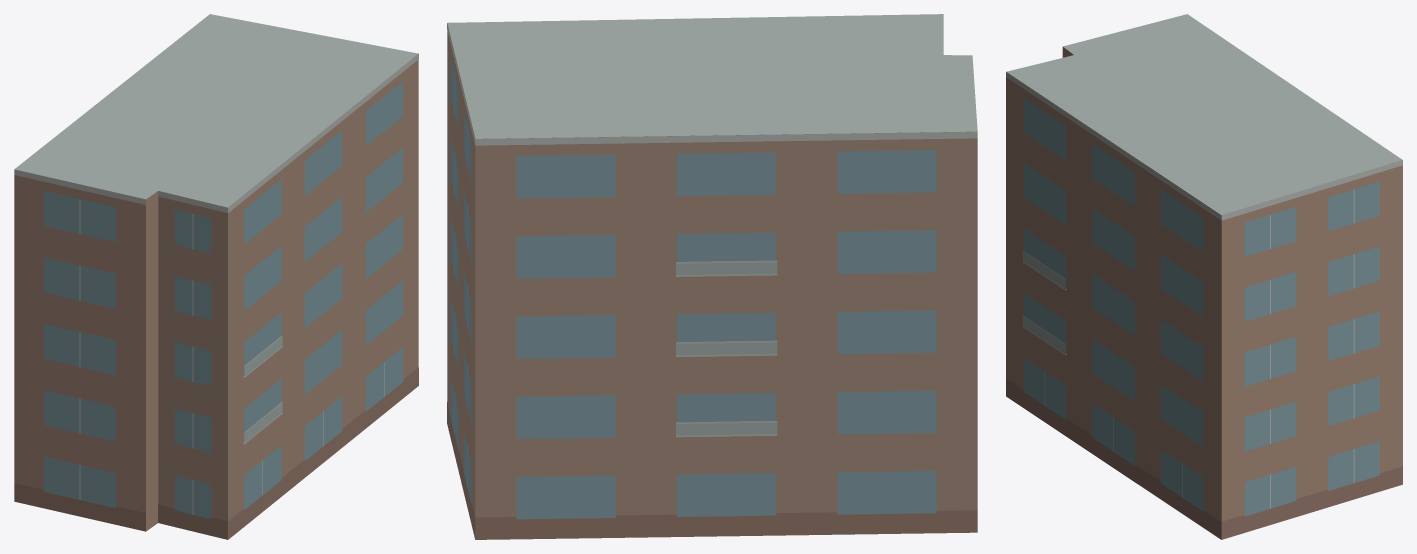
File: survey-upis-32991244.glb
3 views of the same model, side by side, from view 1: azimuth 30°, elevation 25°; view 2: azimuth 150°, elevation 25°; view 3: azimuth 270°, elevation 25° (orthographic). The views are drawn at different scales.
Visible parts, largest first — view 1: survey-upis-32991244.tmp; view 2: survey-upis-32991244.tmp; view 3: survey-upis-32991244.tmp.
Boxes of the visible parts, bbox=[...] form: survey-upis-32991244.tmp: bbox=[14, 14, 418, 539]; survey-upis-32991244.tmp: bbox=[447, 14, 977, 539]; survey-upis-32991244.tmp: bbox=[1006, 14, 1402, 539].
Bounding box in the file's own units: 19.28 × 14.5 × 16.07.
